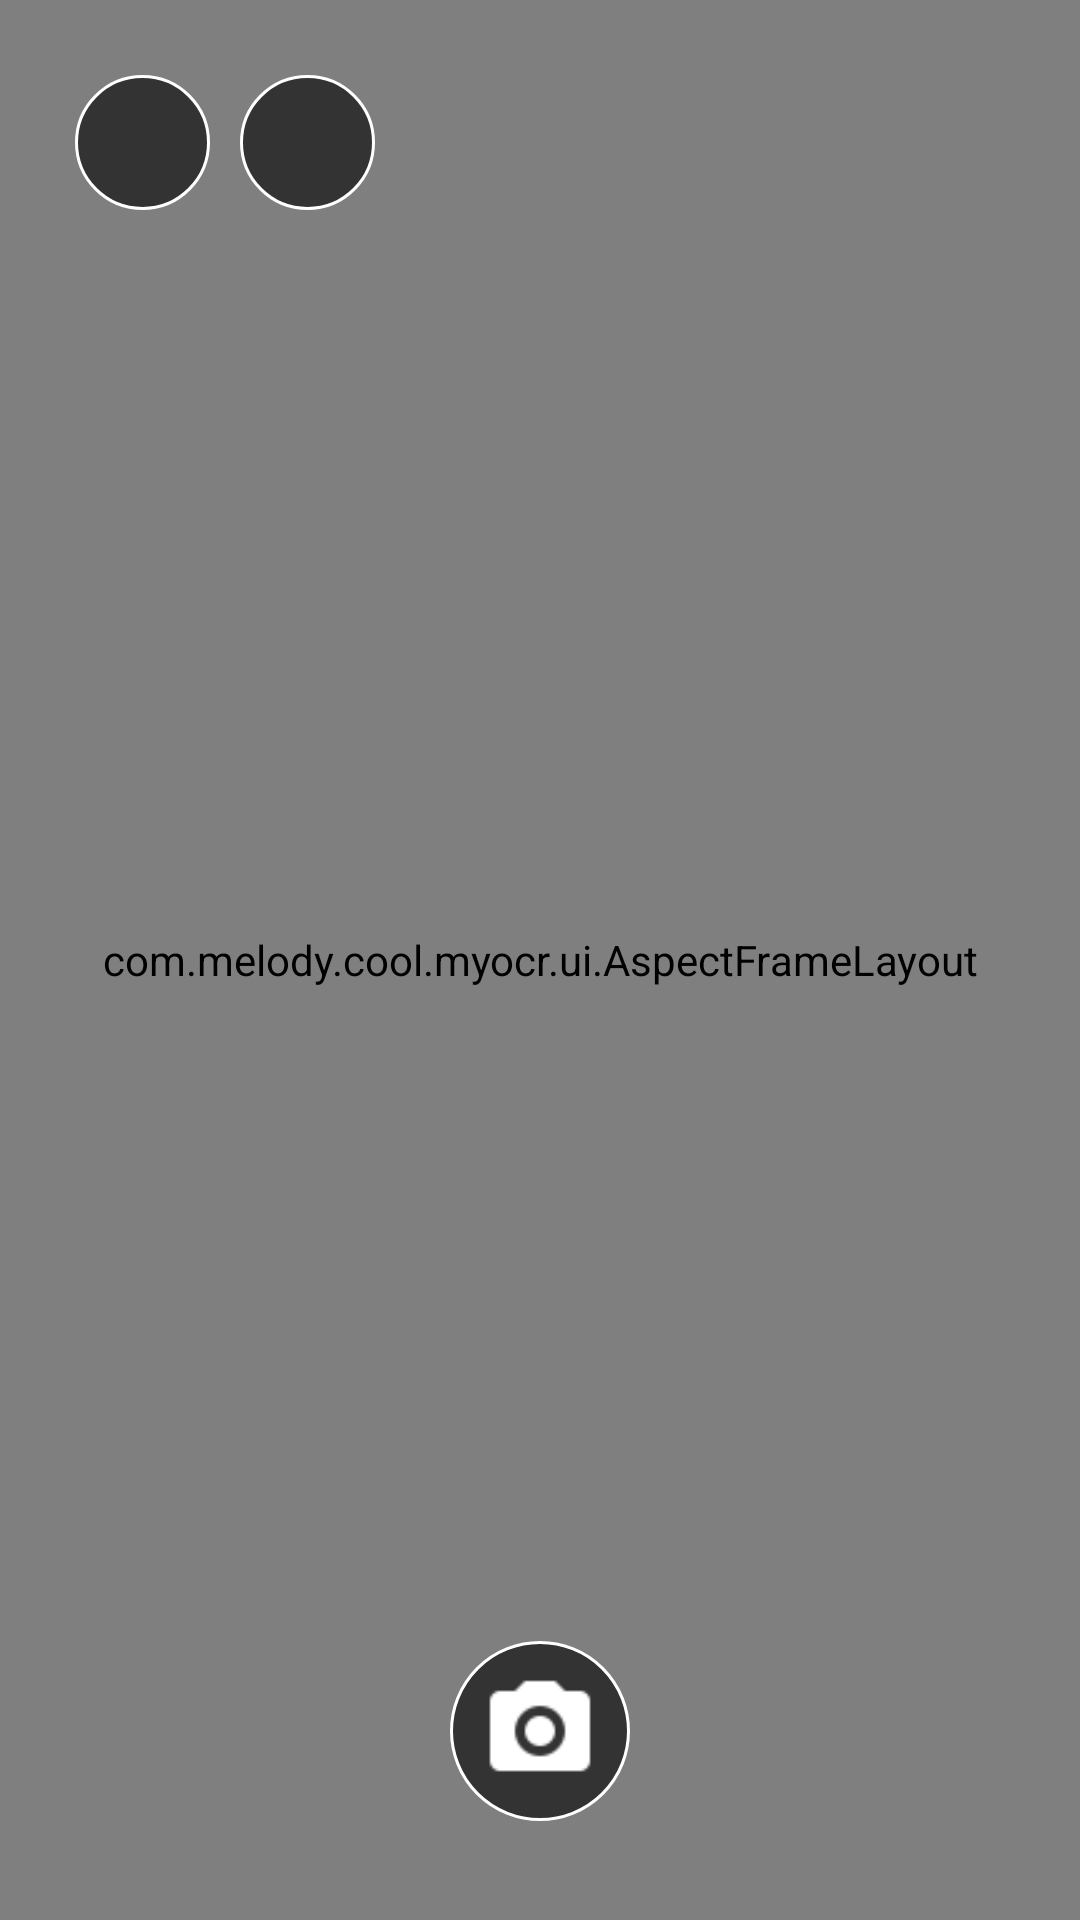

Named icons in this screenshot (1080x1920) and their bounding boxes, (x1, y1, x2, y2):
camera: (450, 1641, 630, 1821)
